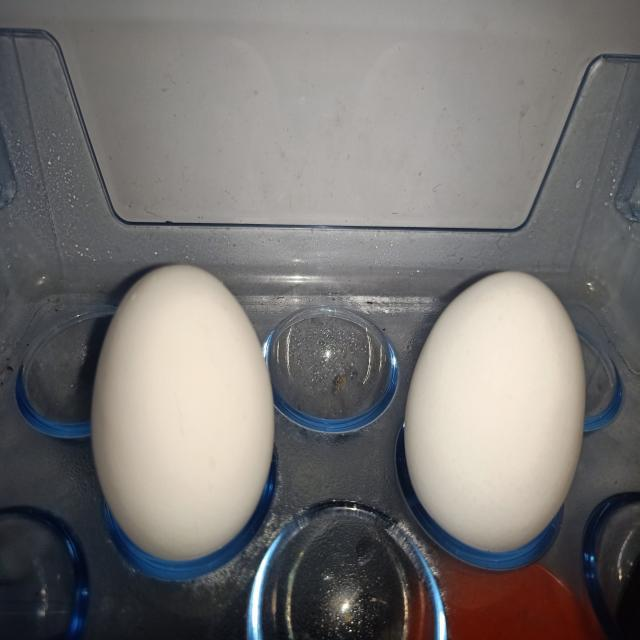Egg: (394, 243, 605, 580), (83, 242, 290, 576)
